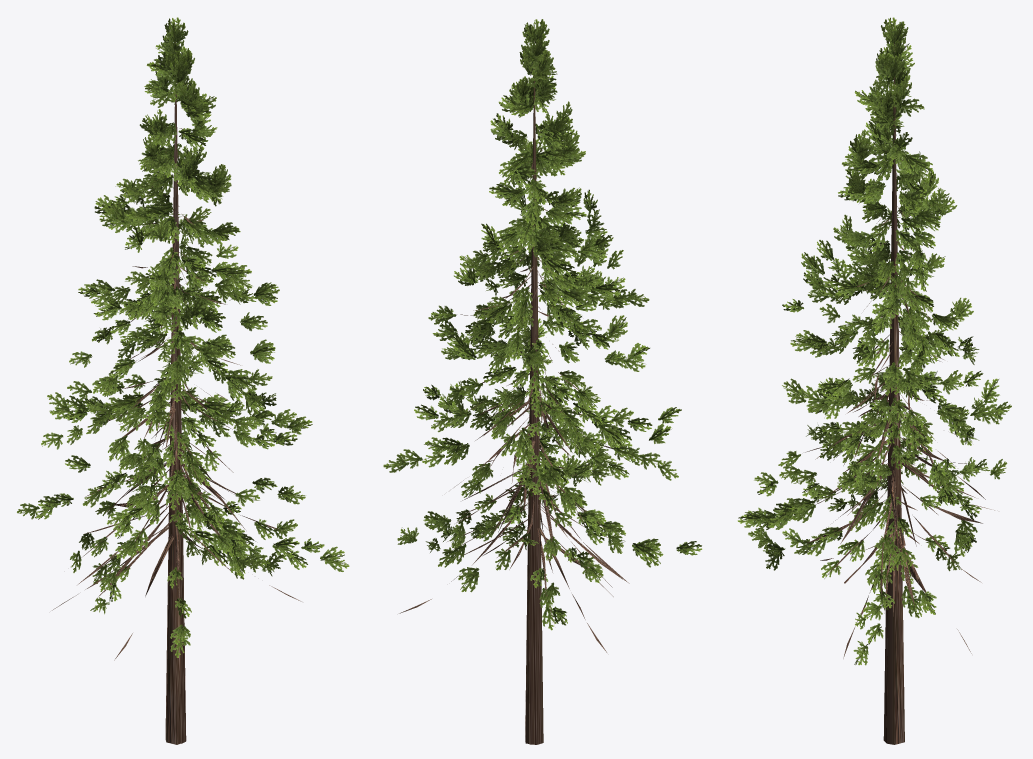
File: pine.glb
3 views of the same model, side by side, from view 1: azimuth 30°, elevation 25°; view 2: azimuth 150°, elevation 25°; view 3: azimuth 270°, elevation 25° (orthographic).
Visible parts, largest first — view 1: Mesh_1, Mesh_0; view 2: Mesh_1, Mesh_0; view 3: Mesh_1, Mesh_0.
Part boxes in pixels (x1,y1,x2,y2): Mesh_1: (17, 17, 349, 657); Mesh_0: (52, 42, 301, 744); Mesh_1: (383, 19, 702, 630); Mesh_0: (399, 41, 629, 744); Mesh_1: (737, 17, 1011, 665); Mesh_0: (805, 42, 994, 744).
Size of the model in its own units: 2.6 by 6.22 by 2.23.
2 materials, 2 textured.
